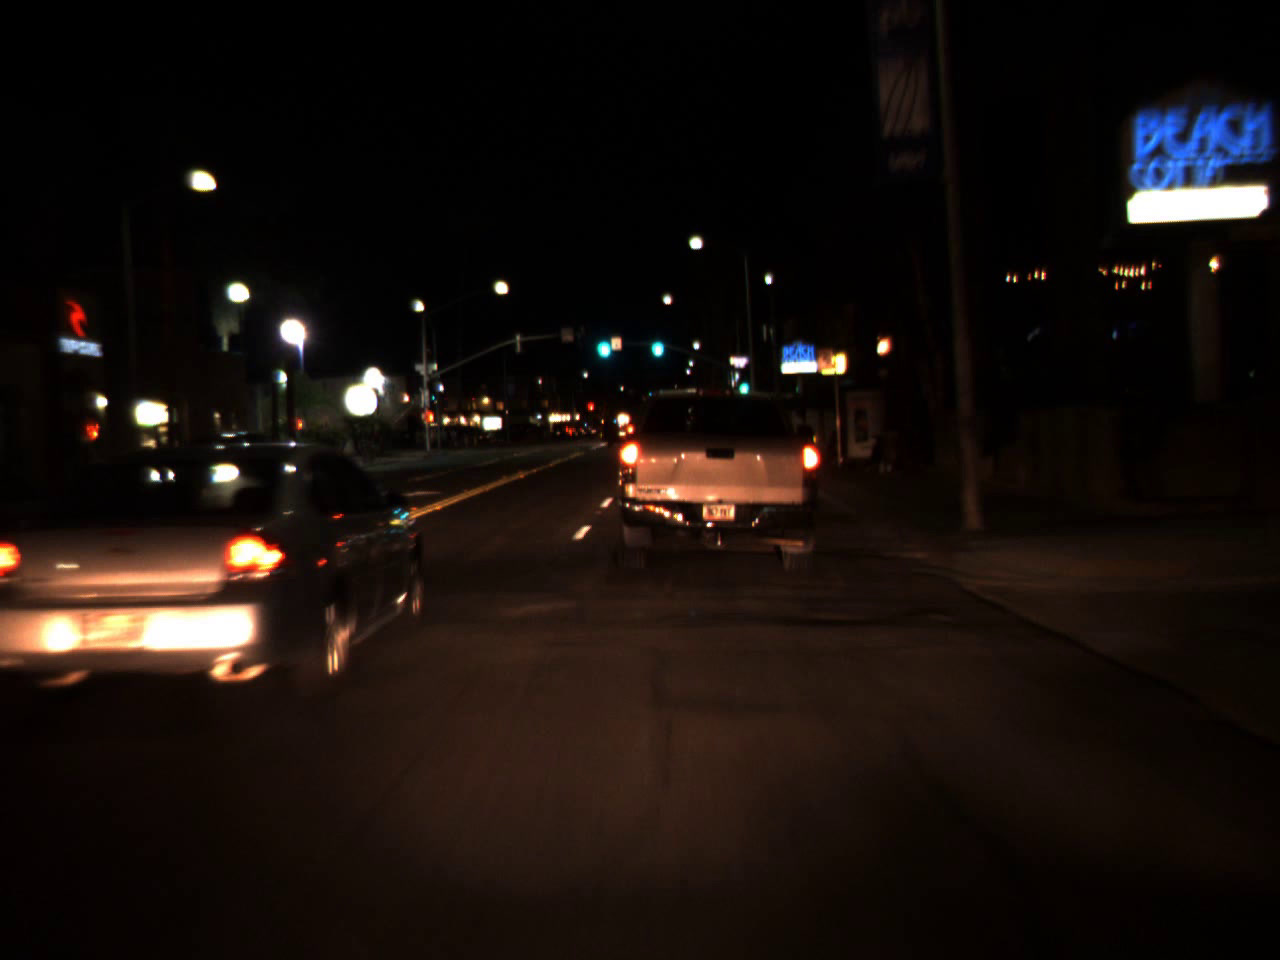go: (592, 321, 613, 363), (646, 323, 665, 362), (736, 370, 750, 397)
